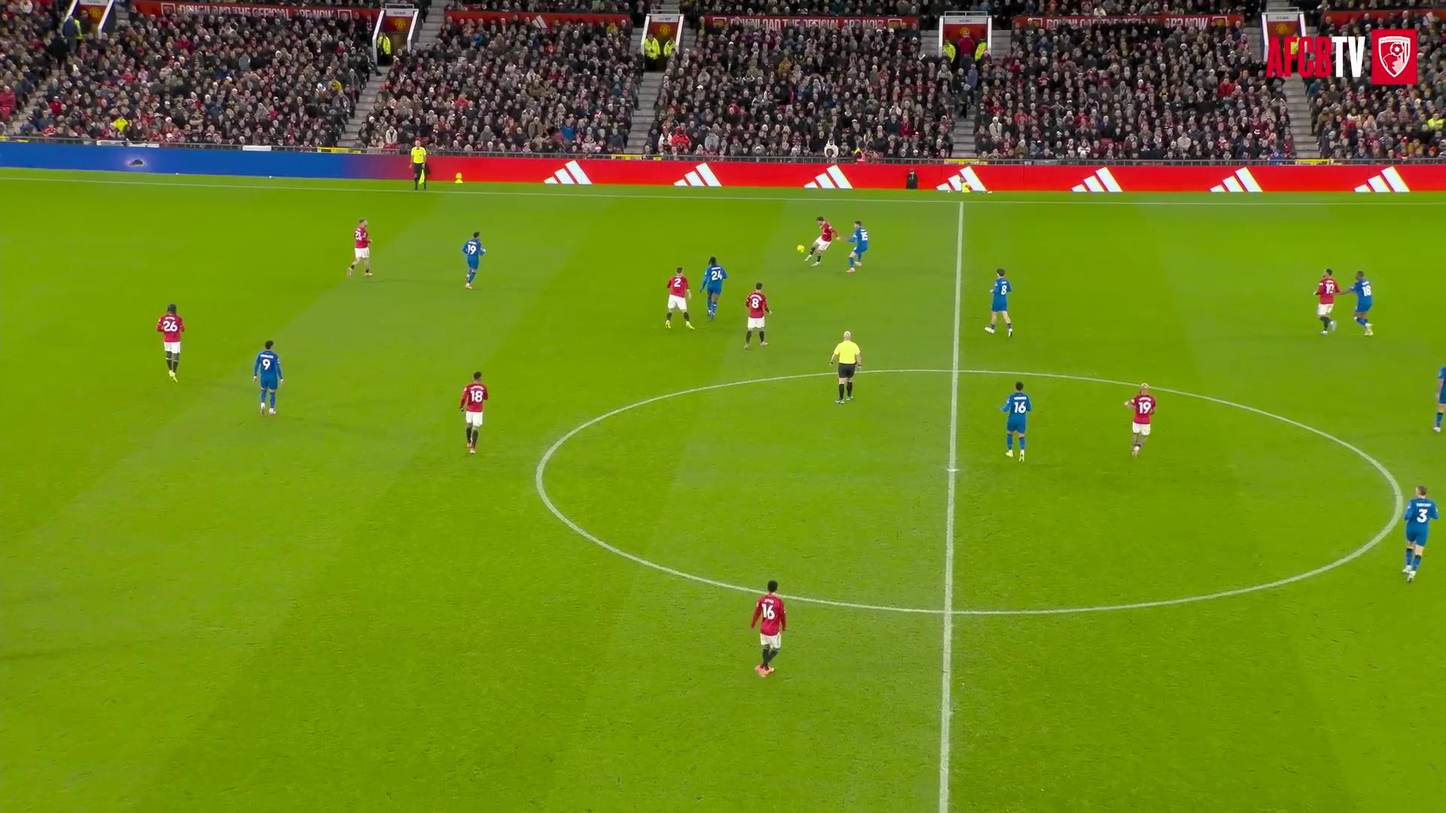football: (797, 245, 805, 252)
player: (750, 580, 786, 676), (1402, 486, 1438, 580), (1001, 381, 1031, 461), (459, 371, 488, 452), (1125, 384, 1156, 456), (156, 303, 184, 379), (253, 340, 282, 413), (985, 269, 1012, 336), (665, 266, 693, 329), (1314, 268, 1340, 334), (700, 257, 727, 320), (745, 282, 770, 349), (804, 218, 836, 266), (1350, 270, 1373, 336), (347, 218, 371, 276), (462, 231, 486, 288), (848, 220, 868, 273), (1433, 366, 1446, 434)
referee: (829, 331, 861, 403), (410, 139, 426, 190)
